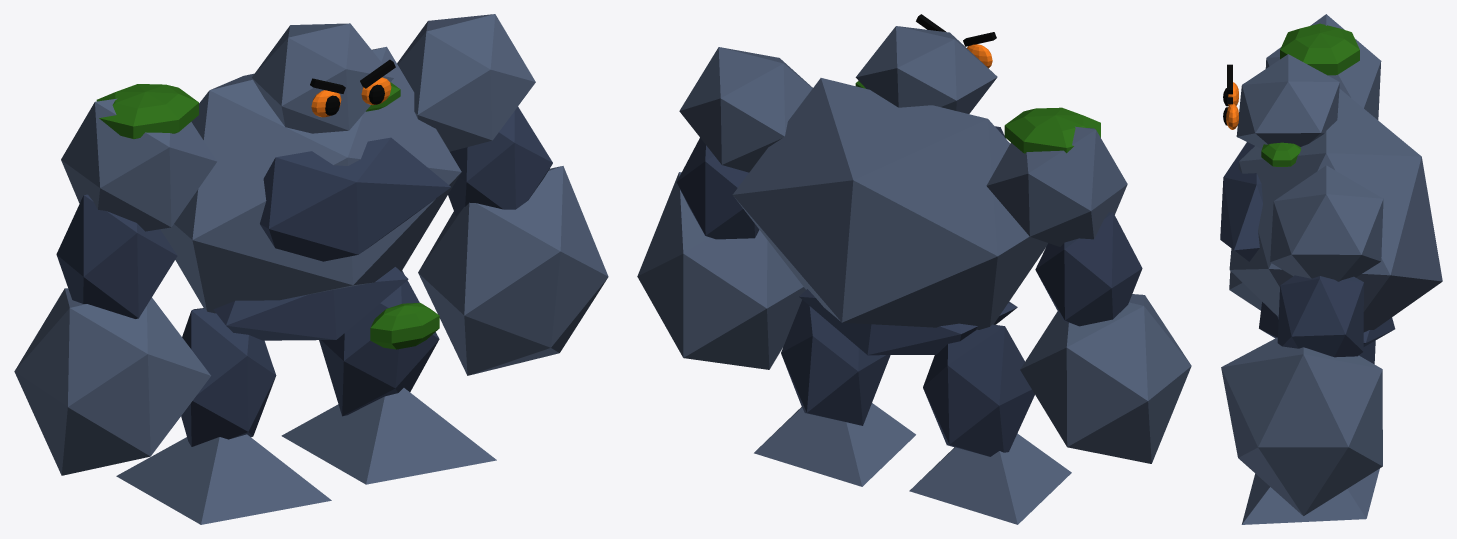
The model's file is rock-golem.glb.
3 views of the same model, side by side, from view 1: azimuth 30°, elevation 25°; view 2: azimuth 150°, elevation 25°; view 3: azimuth 270°, elevation 25° (orthographic). The views are drawn at different scales.
Parts seen in each view (by area): view 1: torso, fist_1, fist_-1, chest_plate, shoulder_1, shoulder_-1, foot_-1, foot_1, head, arm_-1_0, leg_-1_0, hips (+4 smaller); view 2: torso, fist_-1, fist_1, shoulder_-1, leg_-1_0, shoulder_1, head, foot_-1, leg_1_0, arm_-1_0, foot_1, arm_1_0 (+2 smaller); view 3: fist_1, torso, shoulder_1, head, arm_1_0, foot_1, chest_plate, moss_0, shoulder_-1, hips, moss_2, fist_-1 (+1 smaller).
Boxes of the visible parts, x1,y1,x2,y2 form: torso: [160, 46, 461, 313]; fist_1: [418, 166, 608, 375]; fist_-1: [14, 288, 210, 475]; chest_plate: [260, 137, 450, 261]; shoulder_1: [397, 14, 535, 151]; shoulder_-1: [61, 98, 217, 231]; foot_-1: [116, 434, 331, 524]; foot_1: [281, 388, 496, 484]; head: [251, 23, 393, 133]; arm_-1_0: [56, 194, 177, 318]; leg_-1_0: [181, 308, 276, 446]; hips: [213, 267, 408, 340]; torso: [732, 78, 1047, 329]; fist_-1: [1020, 294, 1191, 463]; fist_1: [637, 172, 805, 369]; shoulder_-1: [986, 126, 1127, 246]; leg_-1_0: [923, 324, 1034, 456]; shoulder_1: [679, 47, 812, 172]; head: [855, 26, 997, 113]; foot_-1: [909, 433, 1071, 524]; leg_1_0: [781, 300, 890, 425]; arm_-1_0: [1035, 212, 1142, 326]; foot_1: [754, 403, 915, 486]; arm_1_0: [676, 138, 759, 239]; fist_1: [1221, 337, 1382, 515]; torso: [1229, 88, 1442, 332]; shoulder_1: [1270, 165, 1383, 281]; head: [1236, 54, 1339, 148]; arm_1_0: [1277, 275, 1363, 357]; foot_1: [1241, 468, 1379, 524]; chest_plate: [1220, 142, 1262, 261]; moss_0: [1280, 23, 1359, 75]; shoulder_-1: [1265, 14, 1381, 119]; hips: [1259, 302, 1395, 346]; moss_2: [1261, 142, 1300, 166]; fist_-1: [1229, 271, 1261, 310].
Size of the model in its own units: 4.57 by 3.6 by 1.85.
